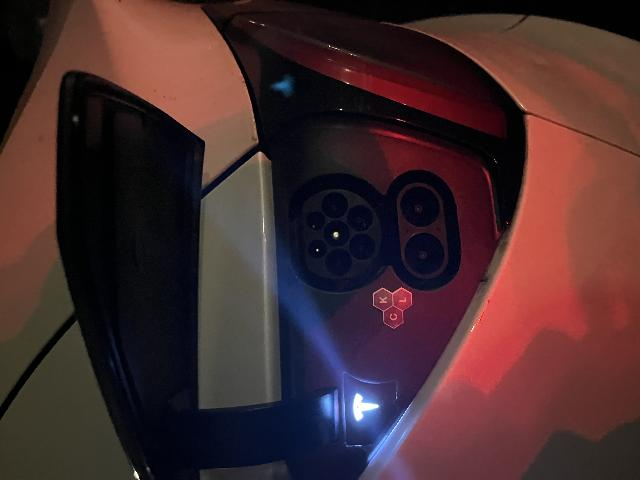inlet: (201, 302, 291, 381)
inlet-above-left: (222, 308, 241, 327)
inlet-above-right: (251, 306, 269, 325)
inlet-below-left: (220, 349, 247, 375)
inlet-below-right: (249, 346, 274, 373)
inlet-circle: (233, 323, 260, 350)
inlet-circle-left: (204, 325, 231, 351)
inlet-circle-right: (262, 321, 288, 349)
inlet-minus: (253, 400, 294, 440)
inlet-plus: (205, 404, 248, 445)
